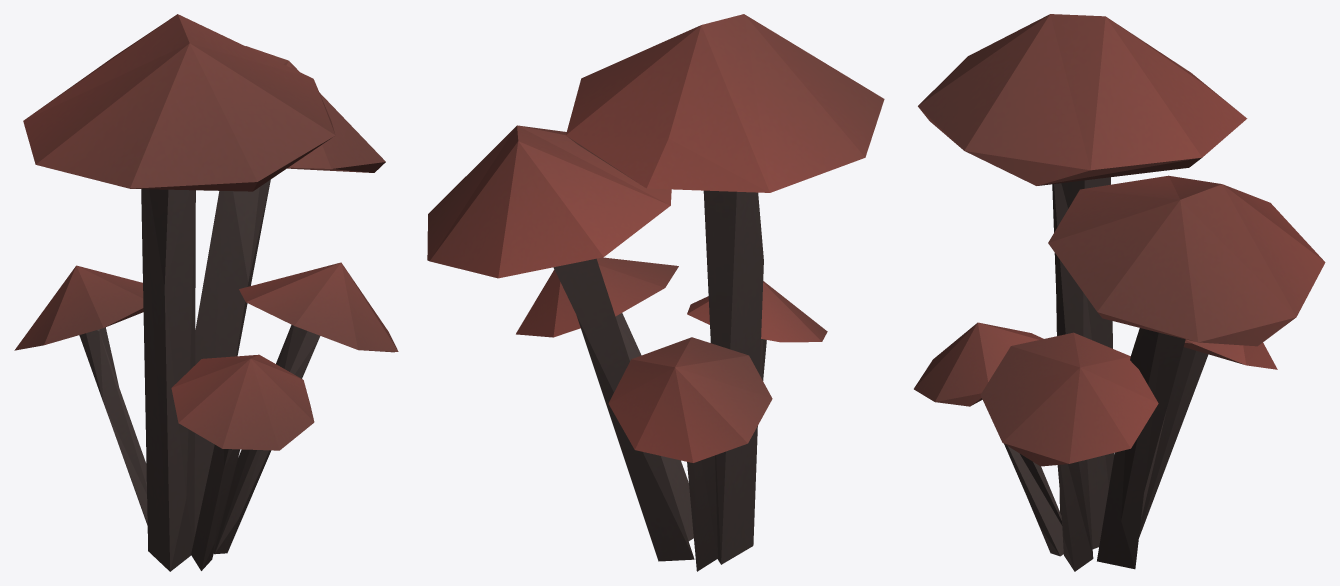
Rendered from Mush_1C_LOD.fbx.
The picture shows the model from 3 angles, left to right: view 1: azimuth 30°, elevation 25°; view 2: azimuth 150°, elevation 25°; view 3: azimuth 270°, elevation 25°; orthographic projection.
Visible parts, largest first — view 1: polySurface1313; view 2: polySurface1313; view 3: polySurface1313.
Boxes of the visible parts, left/top/right/bottom form: polySurface1313: left=14, top=14, right=398, bottom=571; polySurface1313: left=427, top=14, right=884, bottom=571; polySurface1313: left=914, top=14, right=1325, bottom=571.
Size of the model in its own units: 0.764 by 1.03 by 0.7086.
